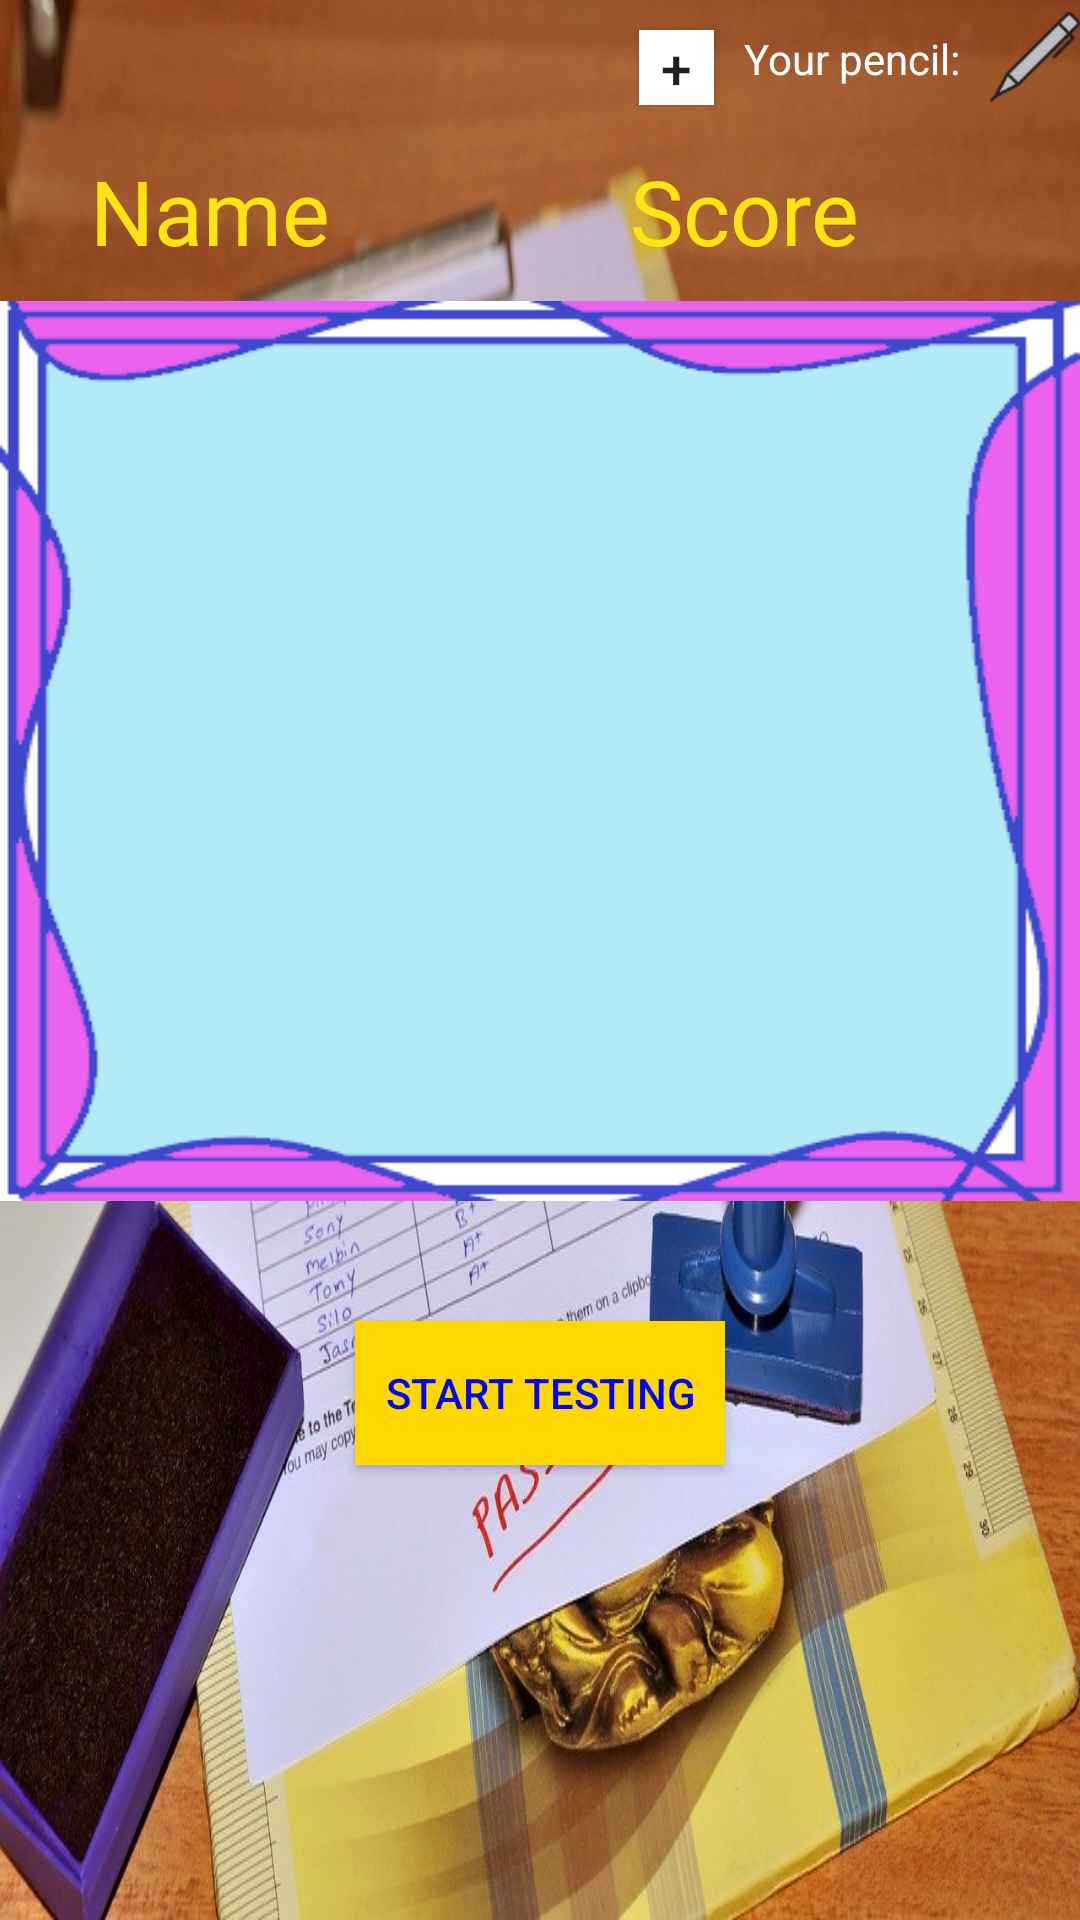

Named icons in this screenshot (1080x1920) and their centers, [x,y]:
pen: [1035,57]
